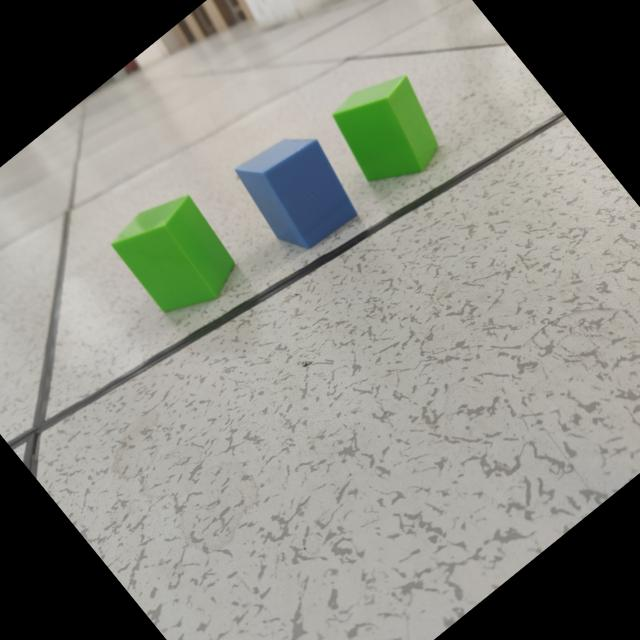blue: (235, 137, 360, 252)
green: (112, 195, 237, 315), (333, 76, 440, 183)
